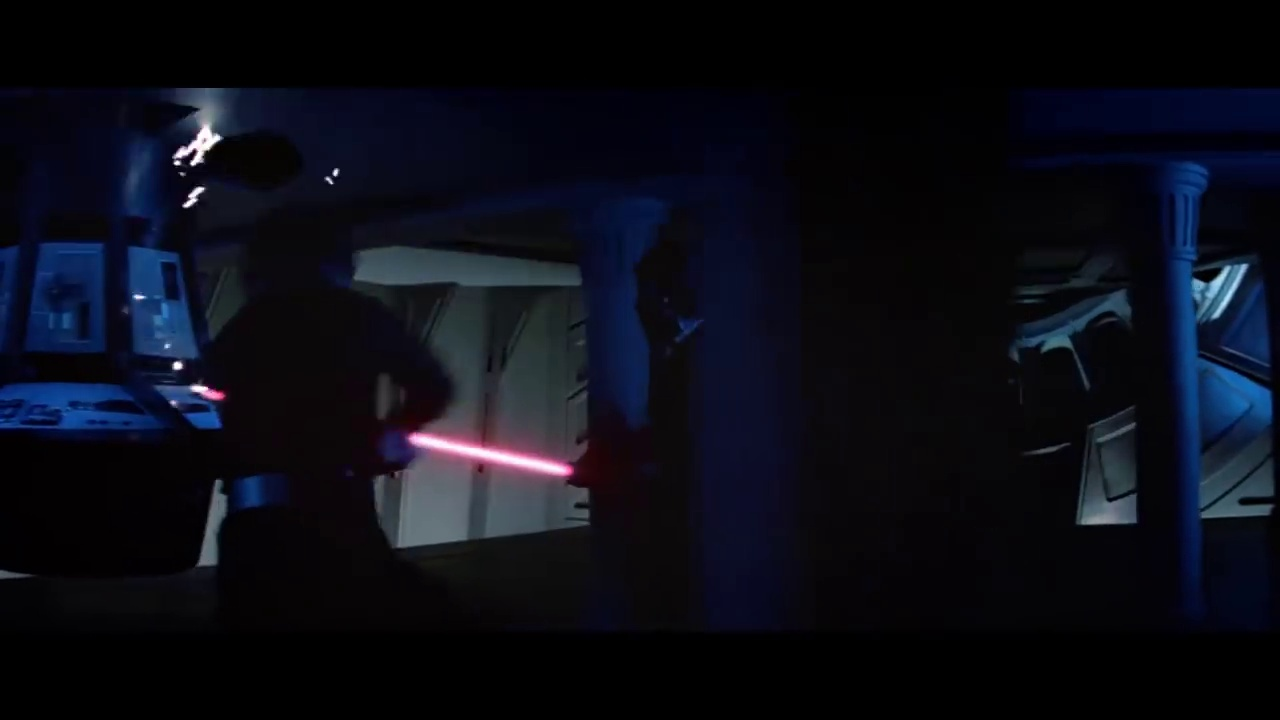lightsaber: (407, 418, 589, 486)
